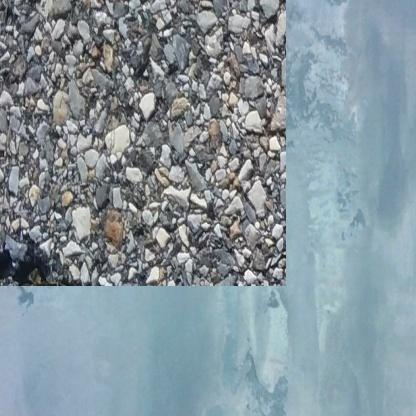Cracks: (0, 227, 70, 265)
